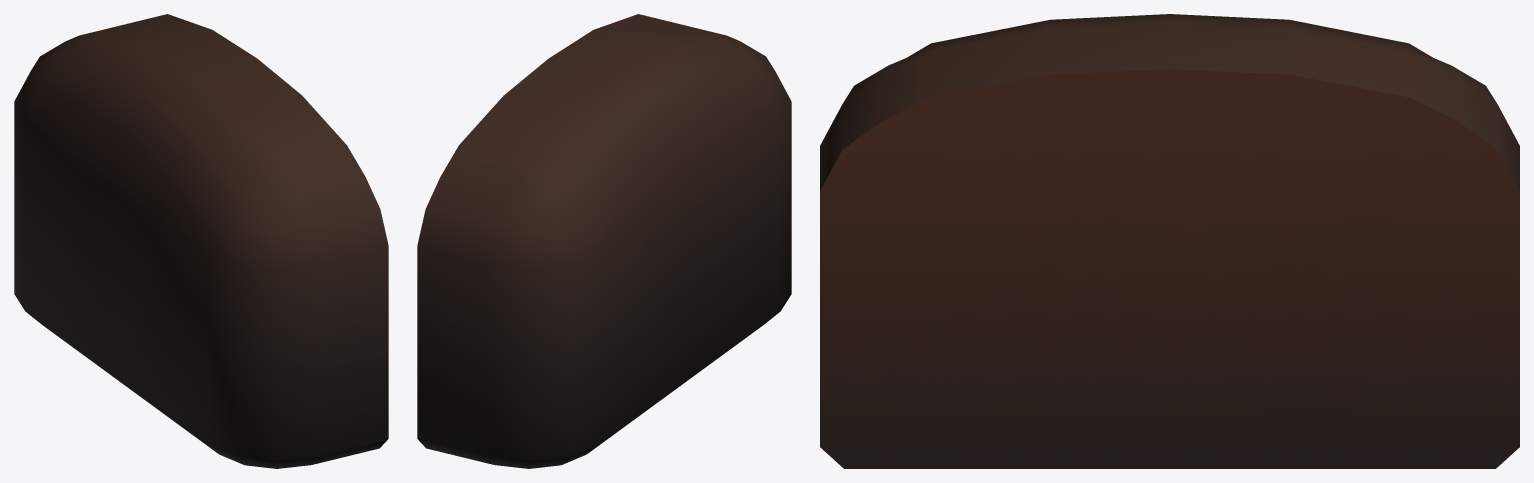
The model's file is m_LoafCake02_Slice01.fbx.
The picture shows the model from 3 angles, left to right: view 1: azimuth 30°, elevation 25°; view 2: azimuth 150°, elevation 25°; view 3: azimuth 270°, elevation 25°; orthographic projection. The views are drawn at different scales.
Visible parts, largest first — view 1: m_LoafCake02_Slice01; view 2: m_LoafCake02_Slice01; view 3: m_LoafCake02_Slice01.
Boxes of the visible parts, <box> form: m_LoafCake02_Slice01: <box>14,14,388,468</box>; m_LoafCake02_Slice01: <box>417,14,791,468</box>; m_LoafCake02_Slice01: <box>820,14,1519,468</box>.
Bounding box in the file's own units: 5 × 10.08 × 16.
